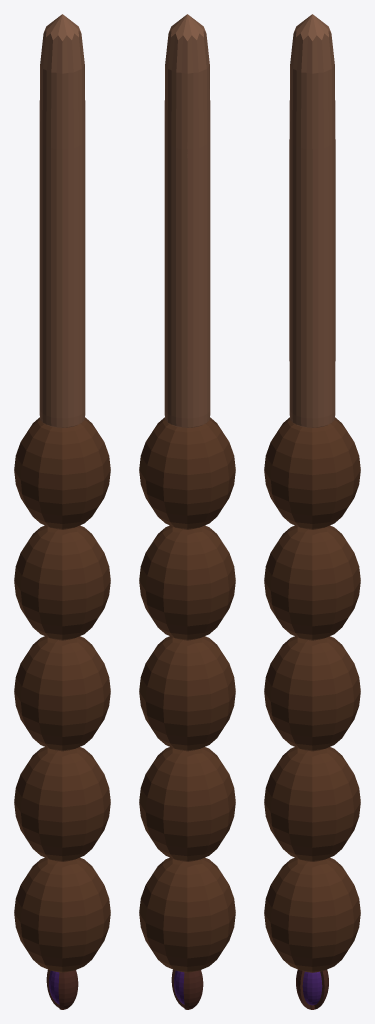
Rendered from Wand 217.glb.
3 views of the same model, side by side, from view 1: azimuth 30°, elevation 25°; view 2: azimuth 210°, elevation 25°; view 3: azimuth 270°, elevation 25° (orthographic).
Parts seen in each view (by area): view 1: GeneratedWand; view 2: GeneratedWand; view 3: GeneratedWand.
Part boxes in pixels (x1,y1,x2,y2): GeneratedWand: [14, 14, 110, 1009]; GeneratedWand: [139, 14, 235, 1009]; GeneratedWand: [264, 14, 360, 1009].
Bounding box in the file's own units: 0.0447 × 0.5097 × 0.0449.
